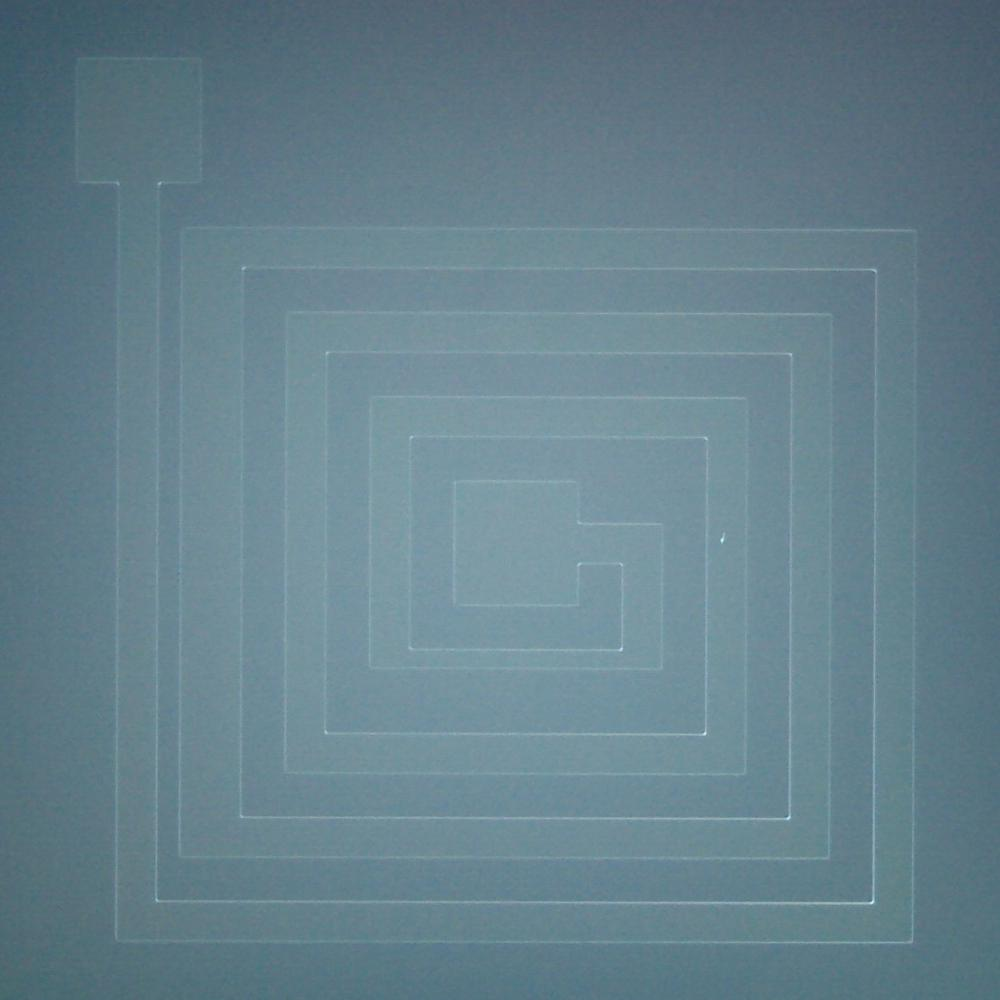dot: (720, 538, 724, 542)
